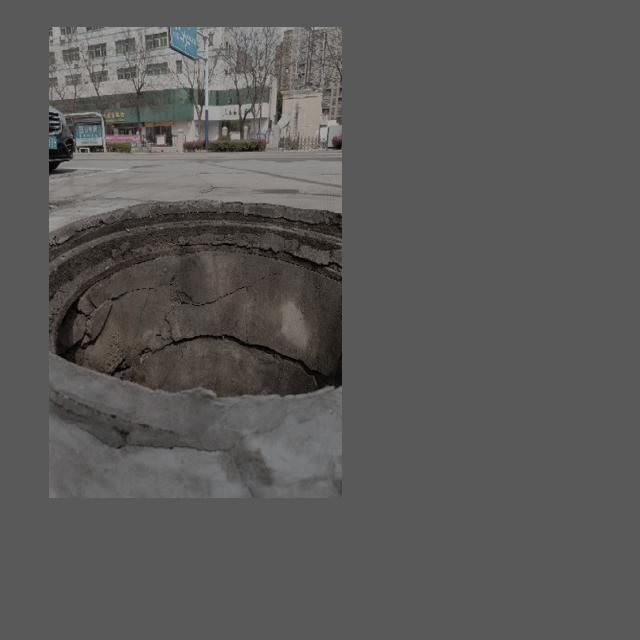lose: (49, 173, 340, 424)
